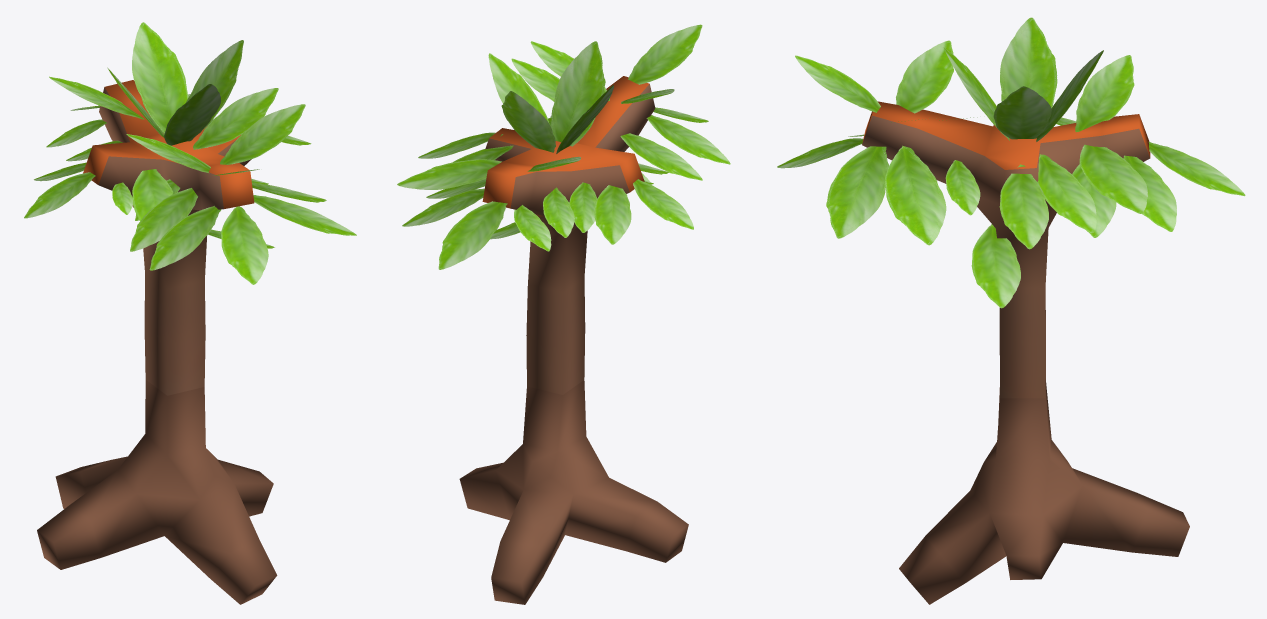
Rendered from chaVerde.fbx.
3 renders of one model, left to right at view 1: azimuth 30°, elevation 25°; view 2: azimuth 150°, elevation 25°; view 3: azimuth 270°, elevation 25°, orthographic. The views are drawn at different scales.
Parts seen in each view (by area): view 1: chaVerde, chaVErdeFolha; view 2: chaVerde, chaVErdeFolha; view 3: chaVerde, chaVErdeFolha.
Boxes of the visible parts, x1,y1,x2,y2 form: chaVerde: (37, 80, 277, 604); chaVErdeFolha: (24, 22, 356, 284); chaVerde: (459, 76, 688, 604); chaVErdeFolha: (397, 24, 730, 269); chaVerde: (862, 101, 1189, 604); chaVErdeFolha: (777, 17, 1245, 308).
Bounding box in the file's own units: 51.53 × 87.29 × 71.28.
